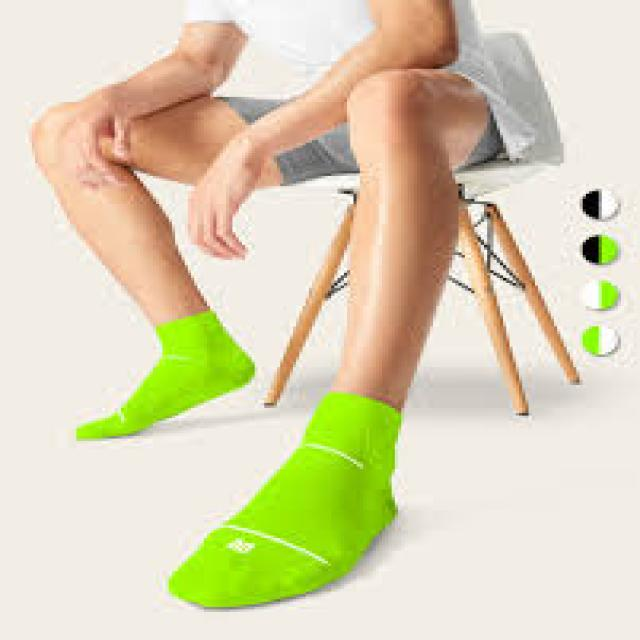sock: (166, 390, 401, 607), (73, 306, 255, 439)
